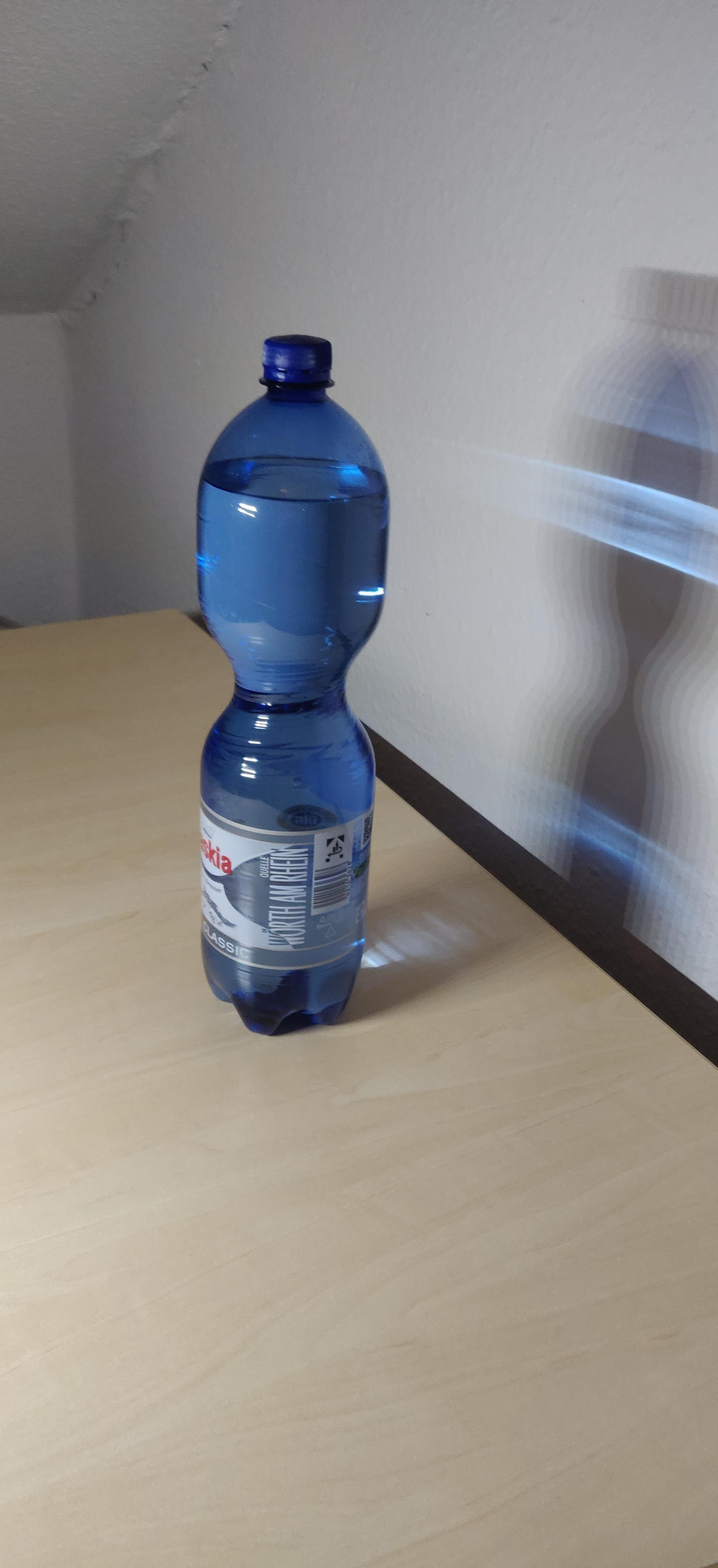bottle-plastic: (195, 331, 391, 1034)
